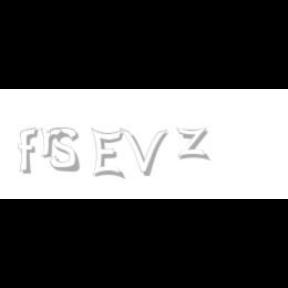E: (90, 128, 124, 180)
S: (50, 128, 80, 172)
V: (120, 128, 168, 176)
f: (18, 128, 42, 174)
r: (40, 128, 66, 158)
z: (176, 128, 212, 160)
